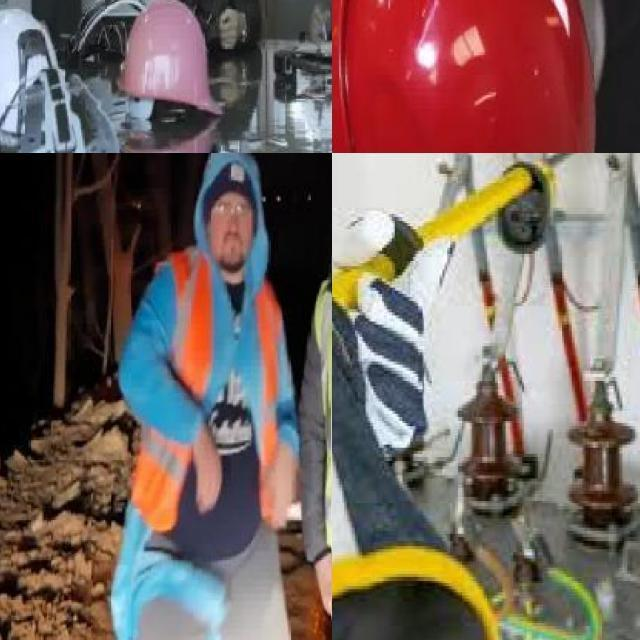apron: (332, 267, 372, 558)
